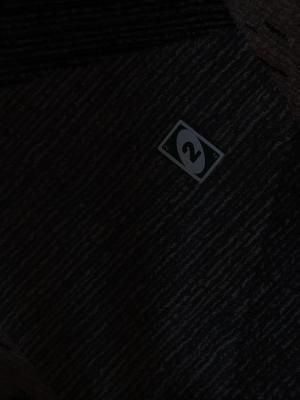green: (176, 138, 213, 169)
